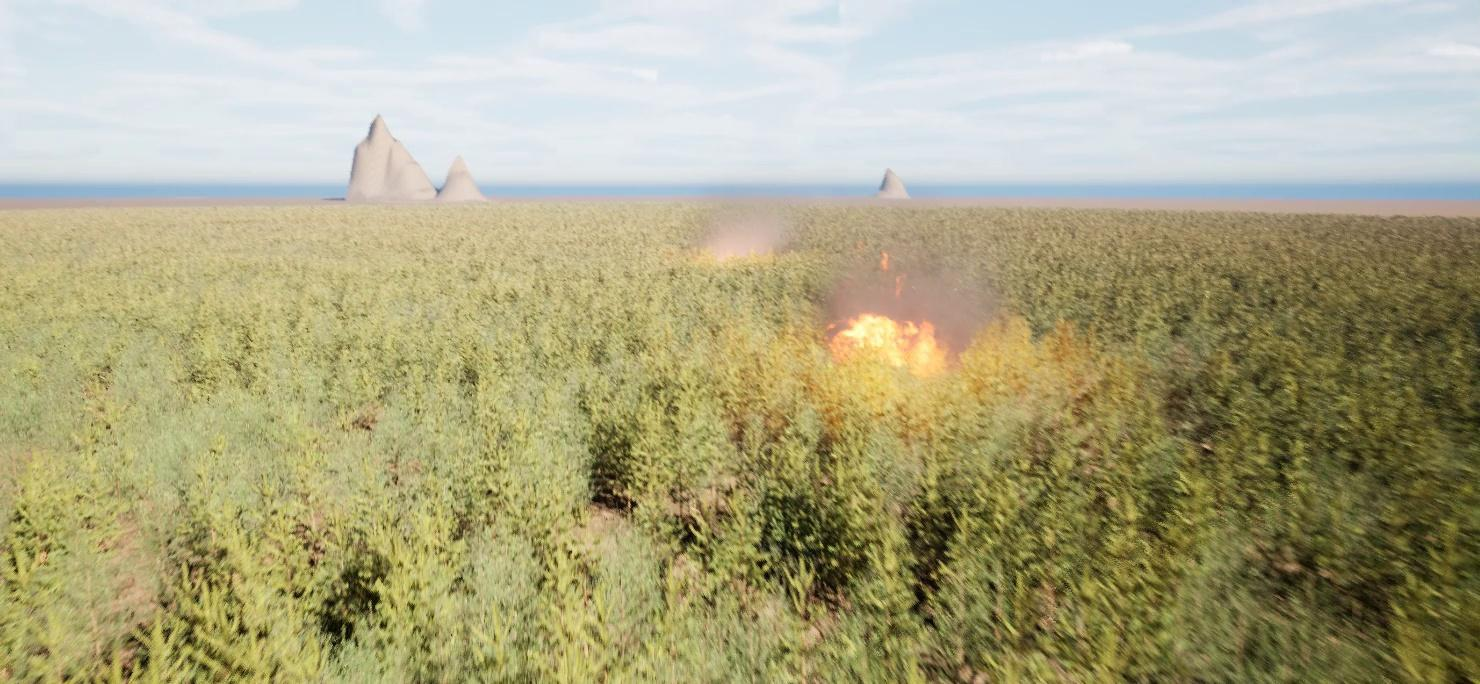fire: (822, 312, 948, 365)
smoke: (818, 248, 987, 353), (684, 201, 787, 267)
